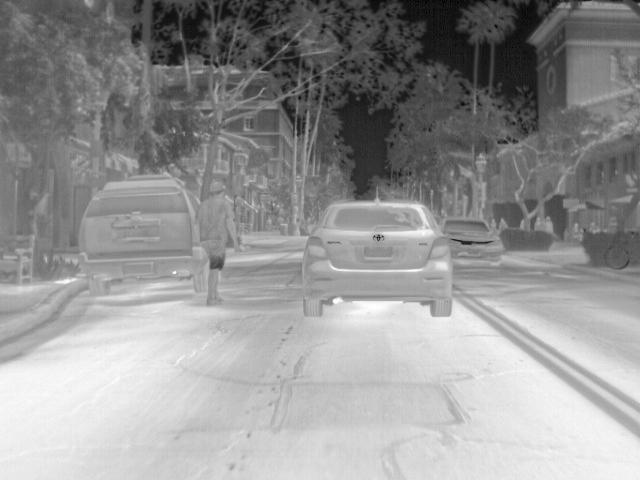car: (302, 193, 455, 317), (77, 172, 212, 294), (439, 216, 507, 264)
person: (199, 180, 245, 307), (572, 221, 585, 241), (544, 214, 555, 234), (498, 216, 510, 234), (532, 216, 544, 230), (588, 220, 601, 232)
